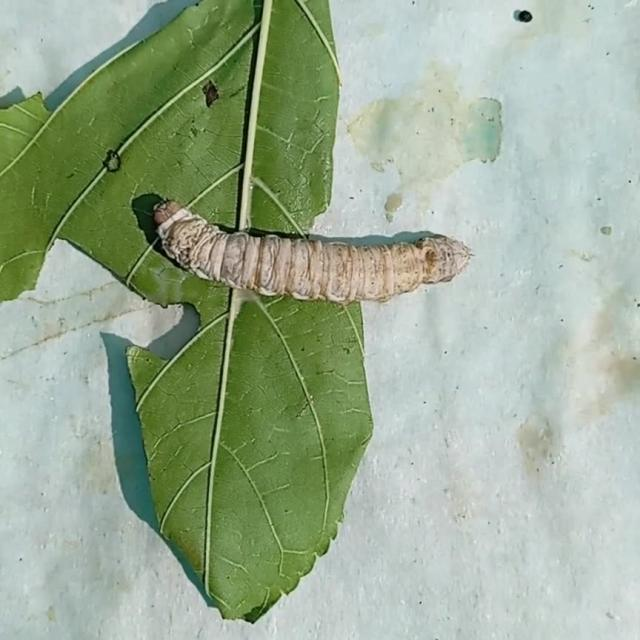Grasserie: (136, 179, 480, 312)
